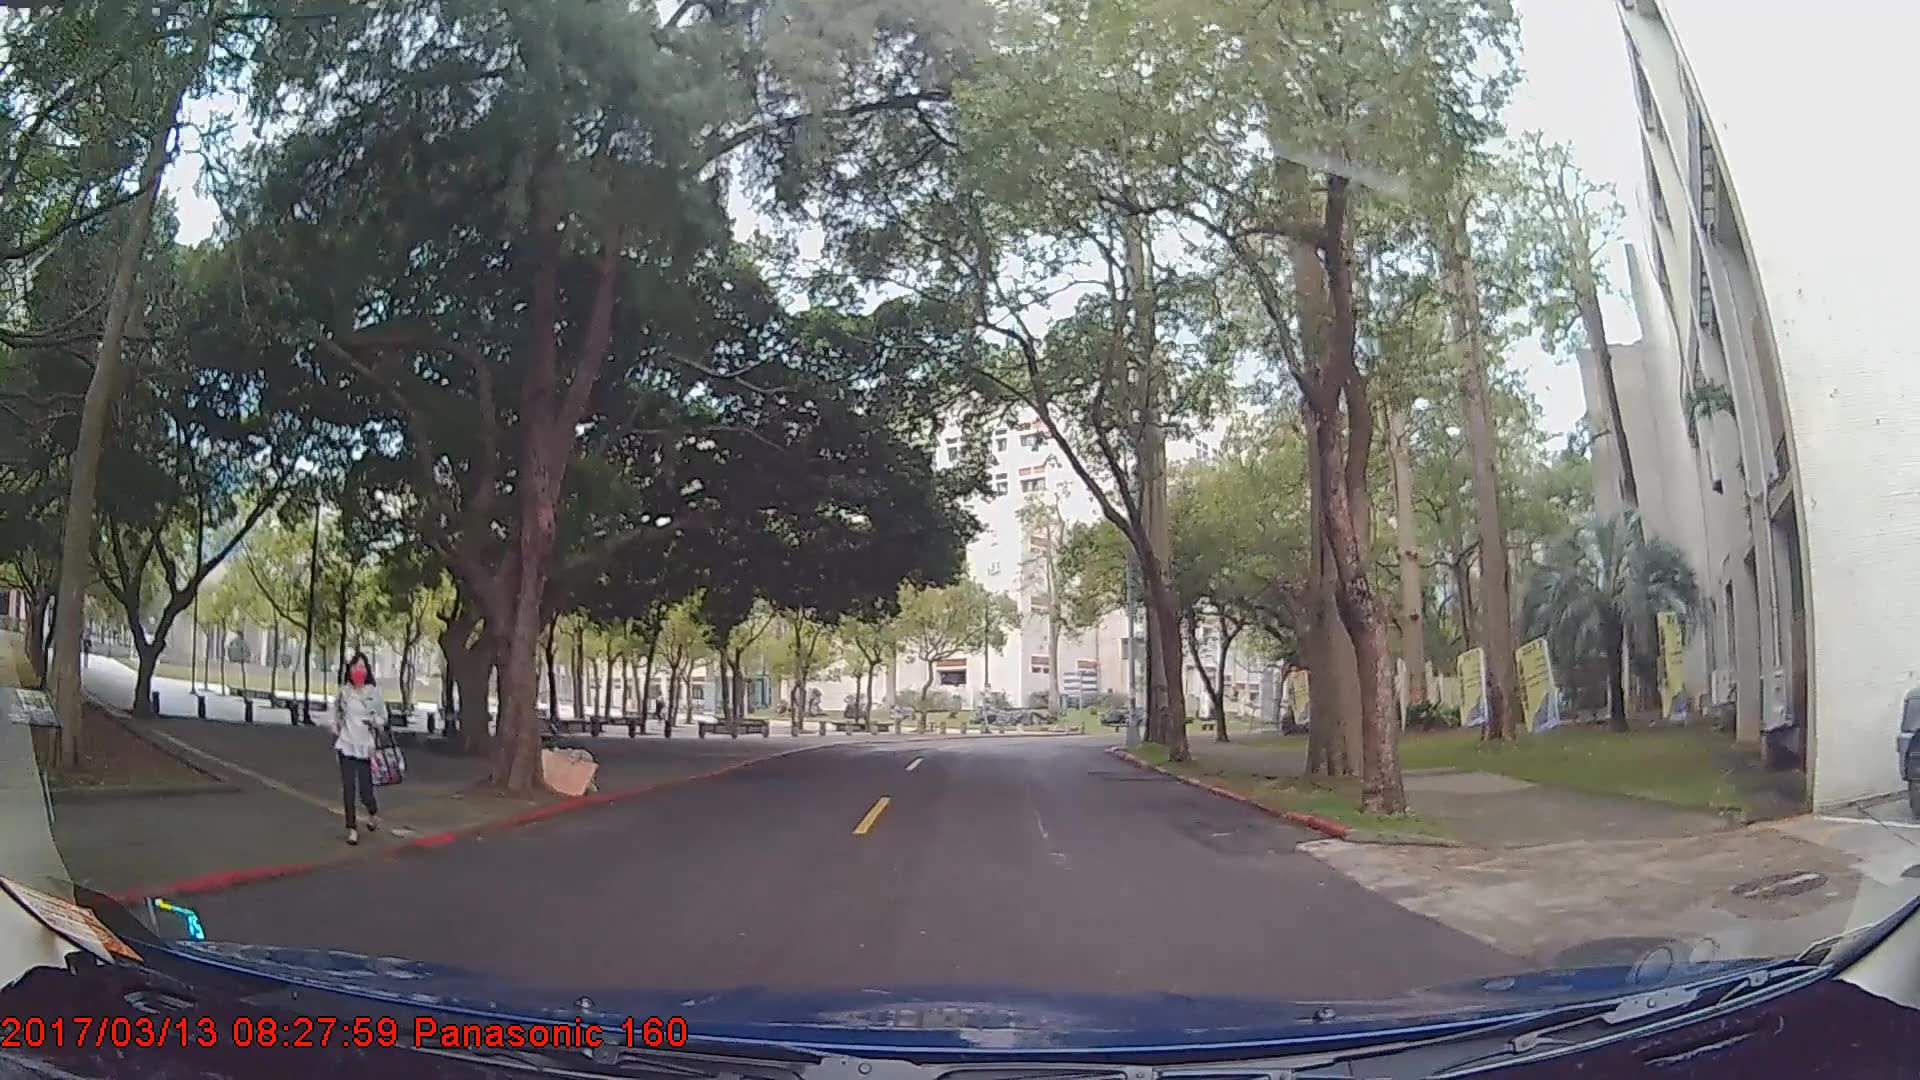pedestrian: (324, 643, 402, 843)
